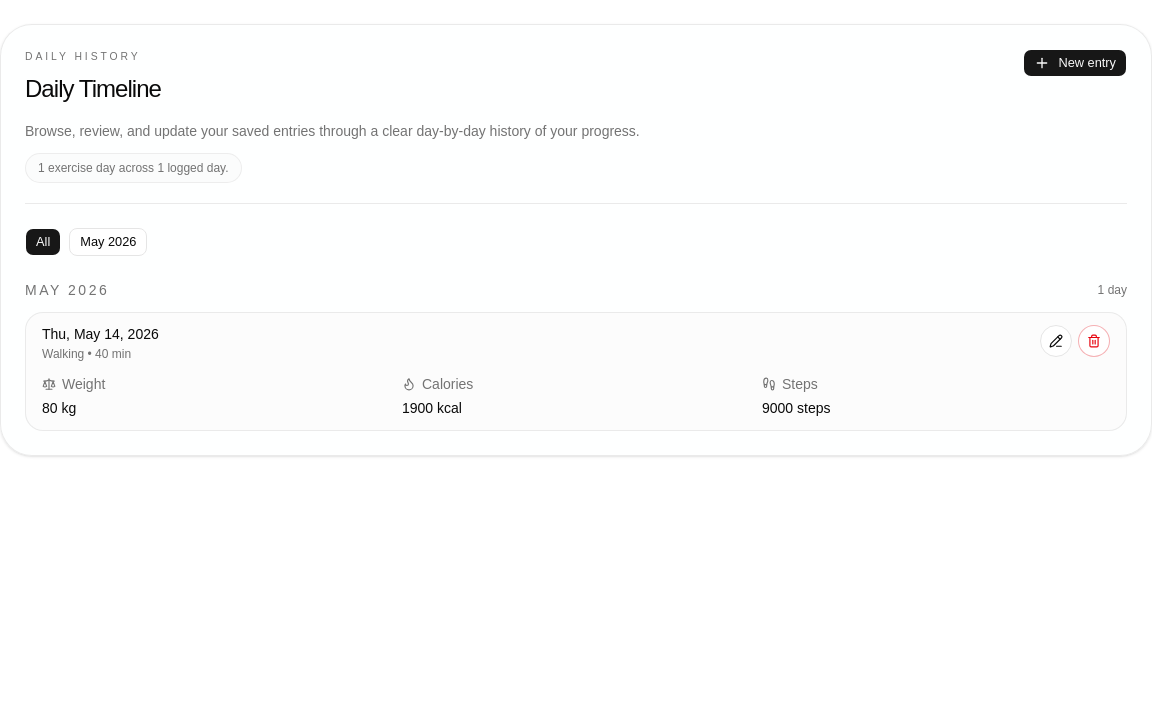
Test: DailyHistoryPage › empties the fields again when discarding changes in new mode
Click the button "New entry" at (1075, 63), box 1023,49 -> 1127,77
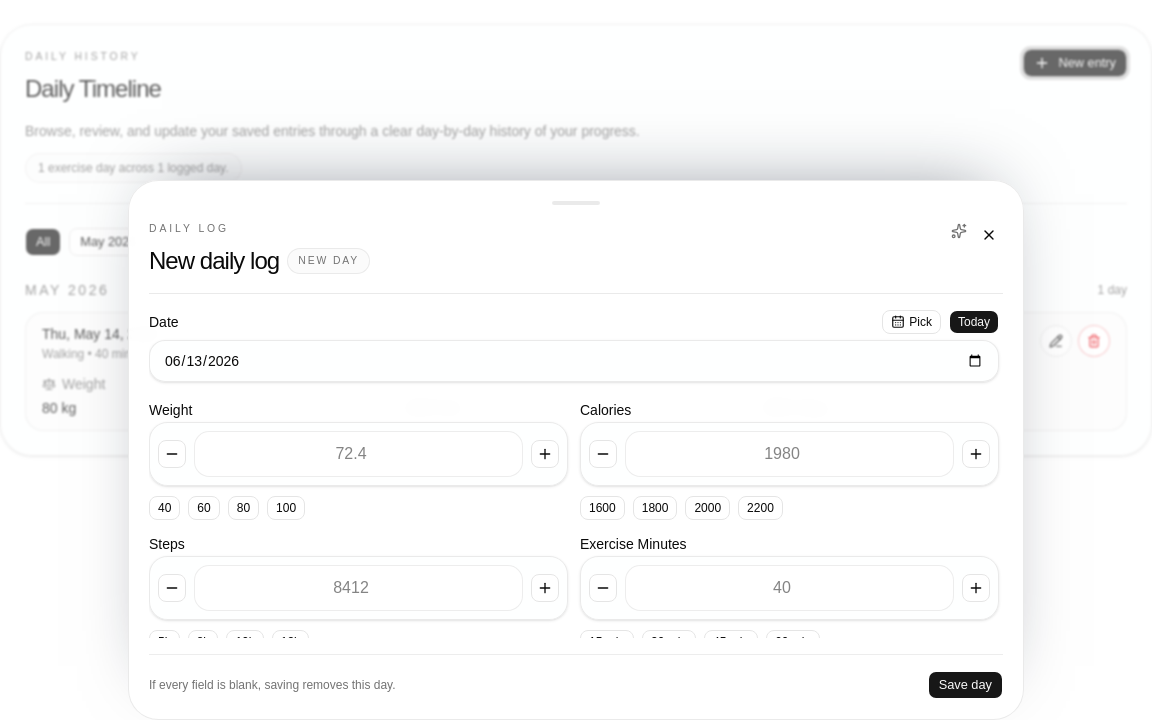
Type "81.2" into the number field labelled "Weight" at (358, 454), box 194,431 -> 523,477
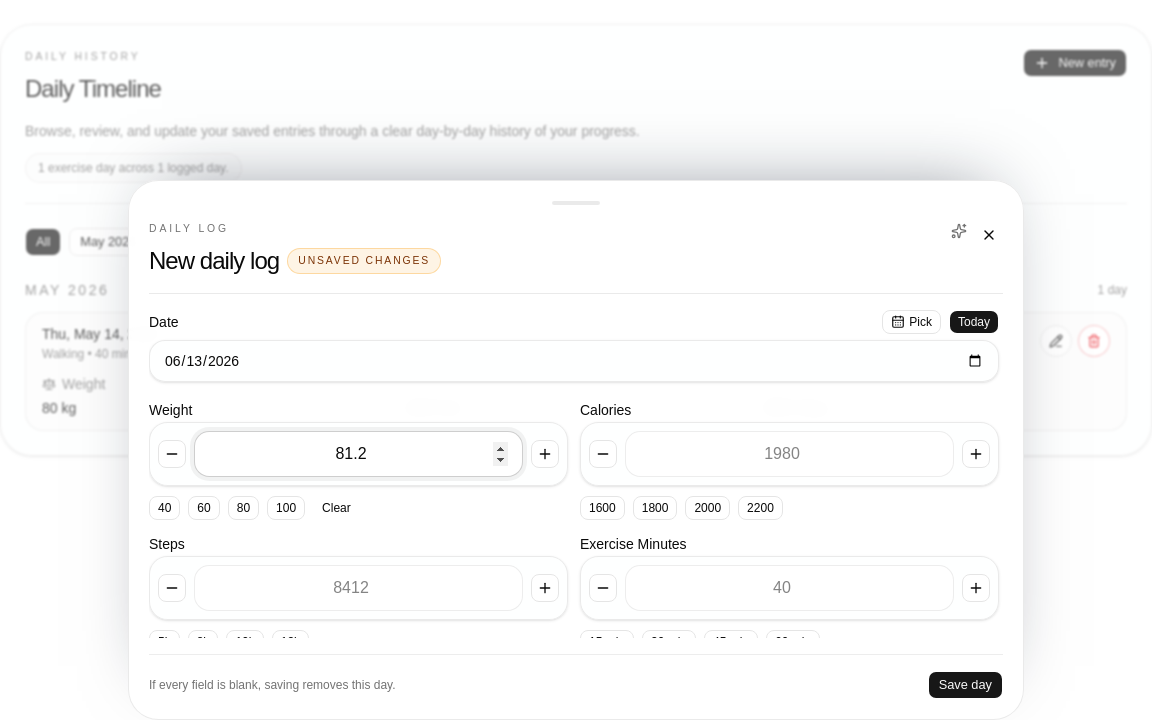
Click the button named "close daily log" at (989, 236), box 975,222 -> 1003,250
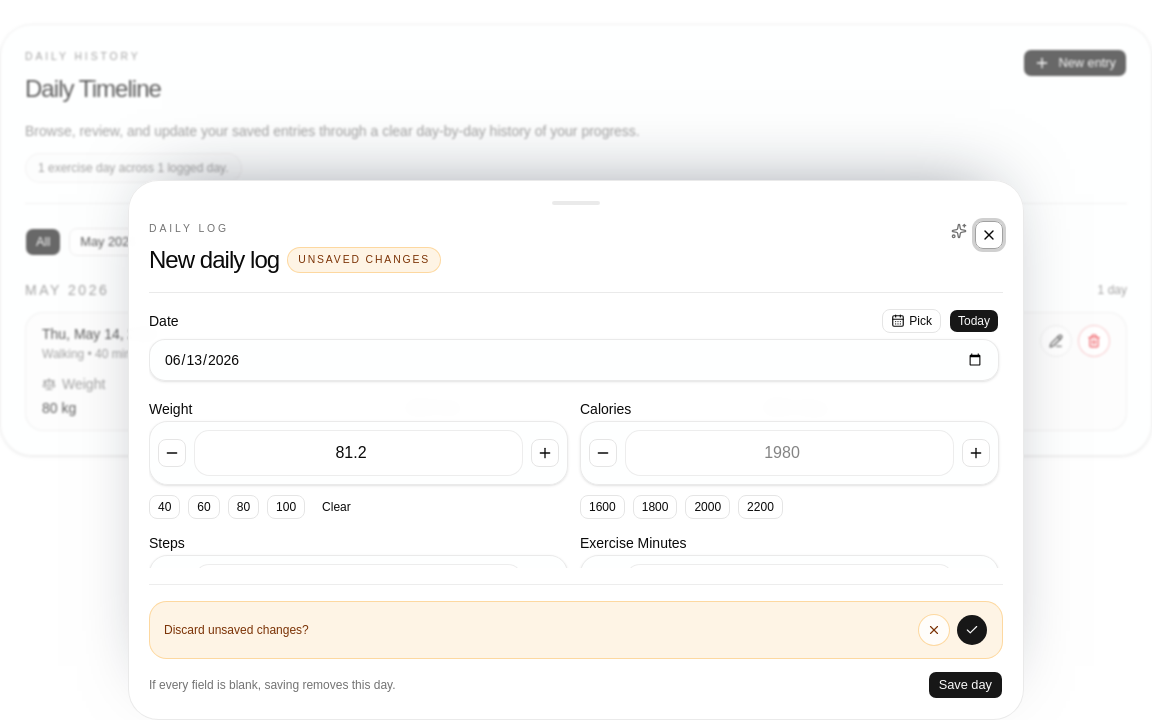
Click the button named "discard changes" at (972, 630), box 956,614 -> 988,646
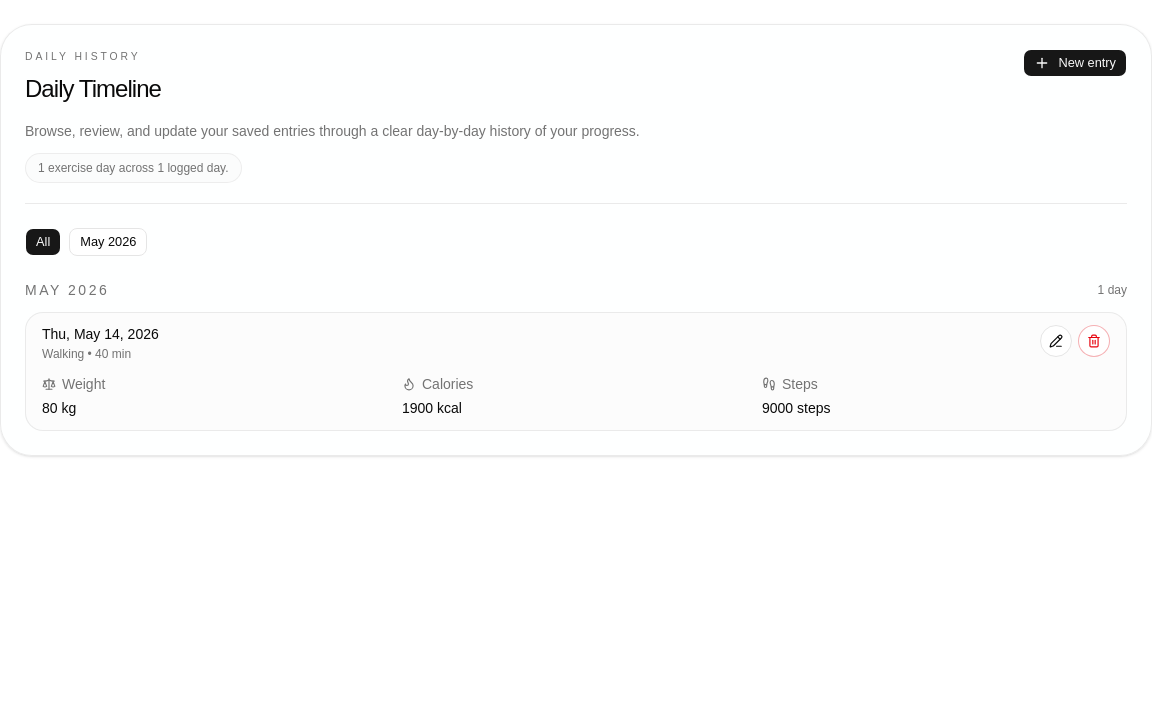
Now the text "Daily log" is gone
Click the button "New entry" at (1075, 63), box 1023,49 -> 1127,77
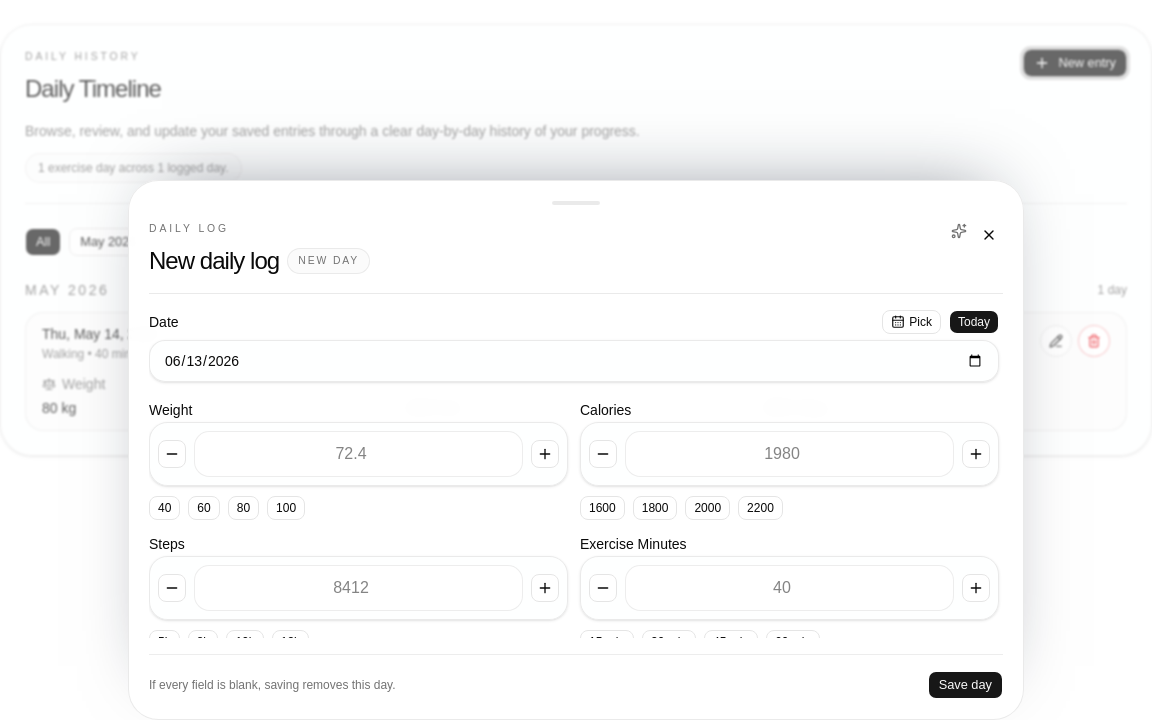
Now the number field labelled "Weight" is not empty, box 194,431 -> 523,477
